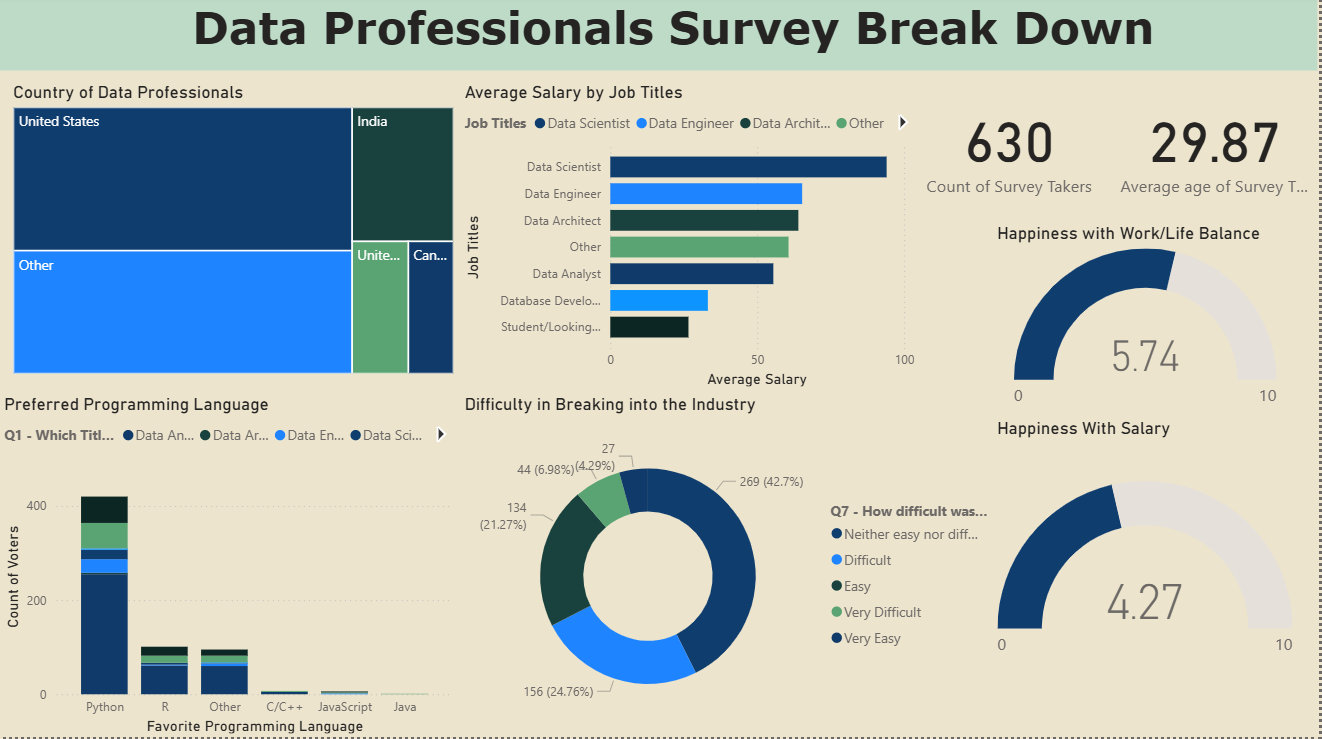

What the dashboard file says about the page in this screenshot:
{"tool":"powerbi","page":{"name":"Page 1","canvas":[1280,720],"ordinal":0},"visuals":[{"type":"textbox","box":[0,0,1279.4,73.5],"z":0},{"type":"card","fields":{"Values":["CountNonNull(Data Professional Survey.Unique ID)"]},"box":[878.6,83.9,201.8,123.2],"z":1000},{"type":"card","fields":{"Values":["Avg(Data Professional Survey.Q10 - Current Age)"]},"box":[1080.4,83.9,198.2,123.2],"z":2000},{"type":"barChart","title":"Average Salary by Job Titles ","fields":{"Category":["Data Professional Survey.Q1 - Which Title Best Fits your Current Role?.1"],"Y":["Avg(Data Professional Survey.Average Salary)"],"Series":["Data Professional Survey.Q1 - Which Title Best Fits your Current Role?.1"]},"box":[446.1,84.8,446.1,300.5],"z":3000},{"type":"columnChart","title":"Preferred Programming Language","fields":{"Category":["Data Professional Survey.Q5 - Favorite Programming Language.1"],"Y":["CountNonNull(Data Professional Survey.Unique ID)"],"Series":["Data Professional Survey.Q1 - Which Title Best Fits your Current Role?.1"]},"box":[0,386.5,445.4,334],"z":4000},{"type":"treemap","title":"Country of Data Professionals","fields":{"Group":["Data Professional Survey.Q11 - Which Country do you live in?.1"],"Values":["CountNonNull(Data Professional Survey.Q11 - Which Country do you live in?.1)"]},"box":[9.2,84.8,436.9,287.6],"z":5000},{"type":"gauge","title":"Happiness with Work/Life Balance","fields":{"Y":["Avg(Data Professional Survey.Q6 - How Happy are you in your Current Position with the following? (Work/Life Balance))"],"MinValue":["Min(Data Professional Survey.Q6 - How Happy are you in your Current Position with the following? (Work/Life Balance))"],"MaxValue":["Max(Data Professional Survey.Q6 - How Happy are you in your Current Position with the following? (Work/Life Balance))"]},"box":[964.2,221.2,296.8,188],"z":6000},{"type":"gauge","title":"Happiness With Salary","fields":{"Y":["Avg(Data Professional Survey.Q6 - How Happy are you in your Current Position with the following? (Salary))"],"MinValue":["Min(Data Professional Survey.Q6 - How Happy are you in your Current Position with the following? (Salary))"],"MaxValue":["Max(Data Professional Survey.Q6 - How Happy are you in your Current Position with the following? (Salary))"]},"box":[964.3,410.7,296.4,276.8],"z":7000},{"type":"donutChart","title":"Difficulty in Breaking into  the Industry","fields":{"Y":["CountNonNull(Data Professional Survey.Q1 - Which Title Best Fits your Current Role?.1)"],"Category":["Data Professional Survey.Q7 - How difficult was it for you to break into Data?"]},"box":[446.1,387.1,518,333.7],"z":8000}]}

Visuals, with their boxes in screenshot pixels (x1, y1, x2, y2), scaled from the page's 1280x720 canvas onto the 1322x739 screenshot:
textbox: (0, 0, 1321, 75)
card - CountNonNull(Data Professional Survey.Unique ID): (907, 86, 1116, 213)
card - Avg(Data Professional Survey.Q10 - Current Age): (1116, 86, 1321, 213)
"Average Salary by Job Titles " barChart: (461, 87, 921, 395)
"Preferred Programming Language" columnChart: (0, 397, 460, 738)
"Country of Data Professionals" treemap: (10, 87, 461, 382)
"Happiness with Work/Life Balance" gauge: (996, 227, 1302, 420)
"Happiness With Salary" gauge: (996, 422, 1302, 706)
"Difficulty in Breaking into  the Industry" donutChart: (461, 397, 996, 738)
